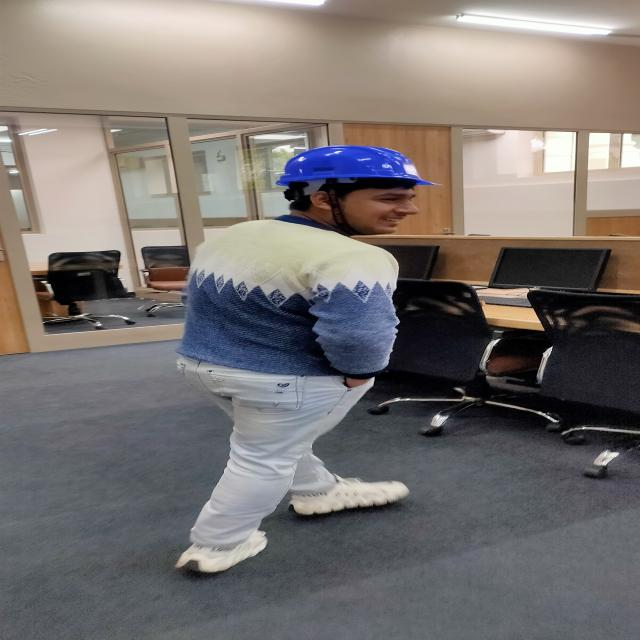no jacket: (170, 144, 447, 574)
